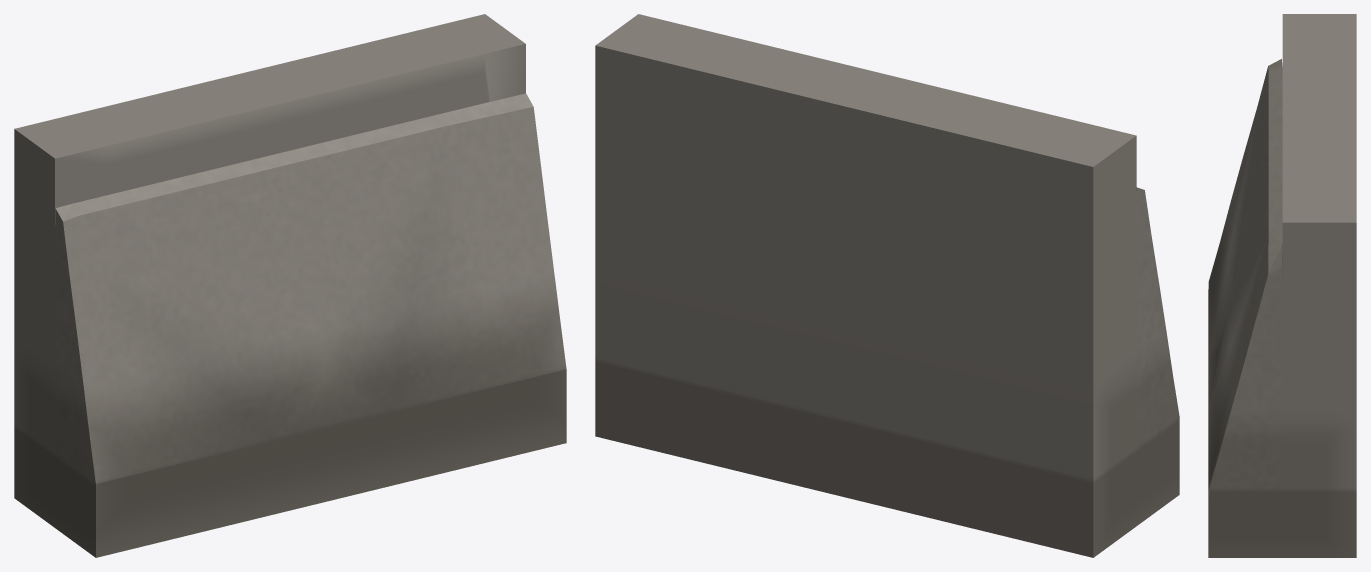
The model's file is ke_da_bai_truoc.mid.glb.
3 views of the same model, side by side, from view 1: azimuth 30°, elevation 25°; view 2: azimuth 150°, elevation 25°; view 3: azimuth 270°, elevation 25° (orthographic). The views are drawn at different scales.
Parts seen in each view (by area): view 1: drawing; view 2: drawing; view 3: drawing.
Part boxes in pixels (x1,y1,x2,y2): drawing: (14, 14, 566, 557); drawing: (595, 14, 1179, 557); drawing: (1208, 14, 1356, 557).
Bounding box in the file's own units: 2 × 1.5 × 0.6.
1 material, 1 textured.
